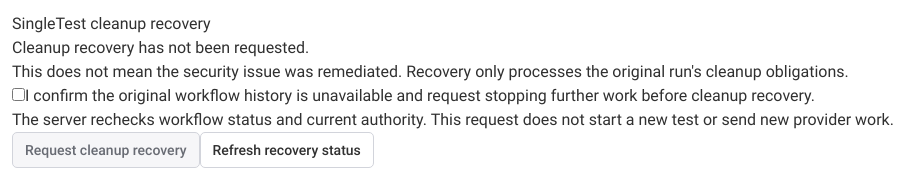
Scenario: connected cleanup recovery › requires a new authority read after definitive POST 403
Later steps or results of the test are not shown.
What coordinates should you click on to do the following:
click the checkbox
I would click on:
 (18, 94)
Its box is x1=12 y1=88 x2=25 y2=101.
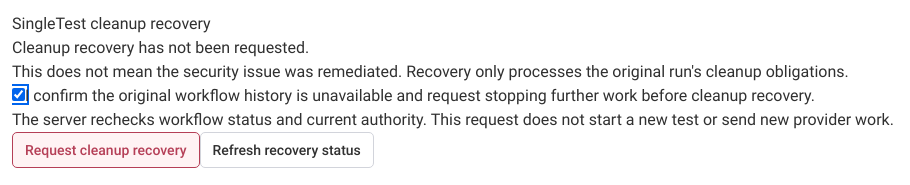
What coordinates should you click on to do the following:
click the button "Request cleanup recovery"
I would click on:
 (106, 150)
Its box is x1=12 y1=132 x2=200 y2=168.
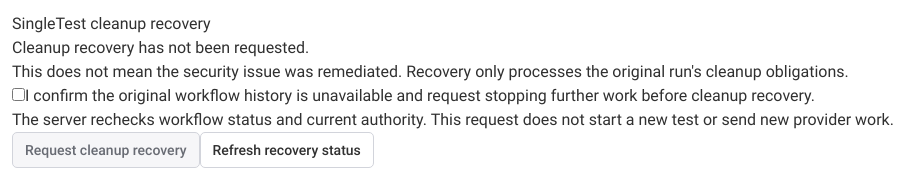
Check: the checkbox is not checked, box x1=12 y1=88 x2=25 y2=101
Check: the button "Request cleanup recovery" is disabled, box x1=12 y1=132 x2=200 y2=168
